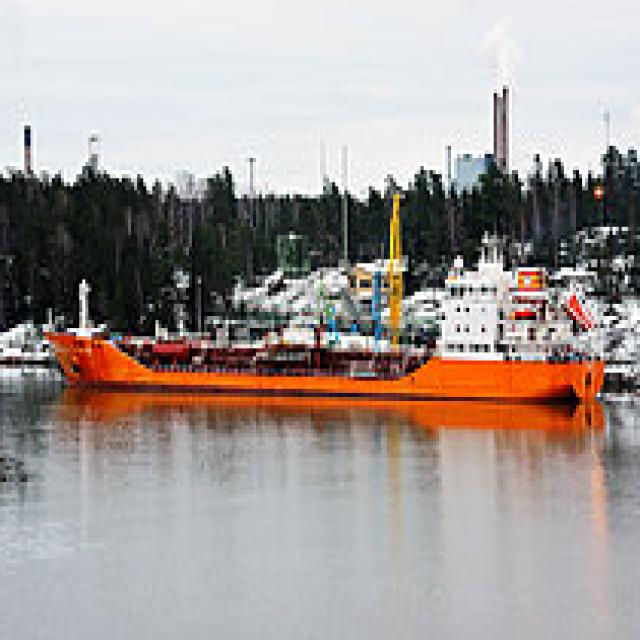Tanker: (46, 243, 610, 397)
